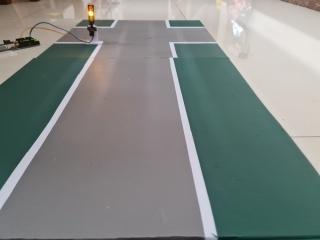yellow: (81, 0, 102, 28)
